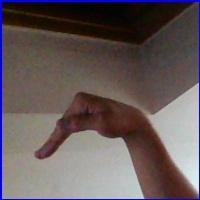del: (33, 81, 149, 170)
